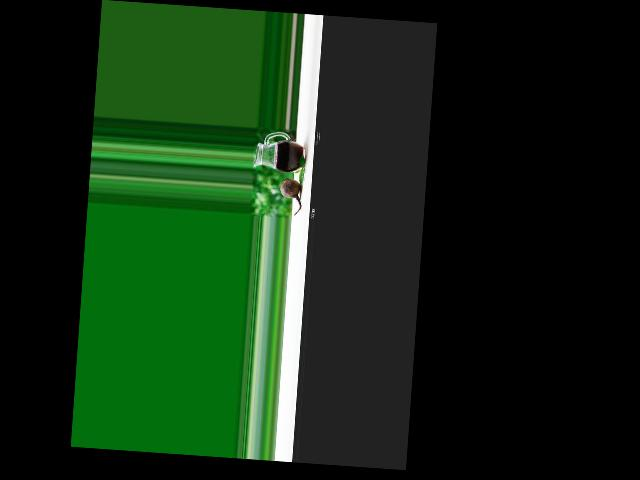beet: (279, 177, 303, 215)
